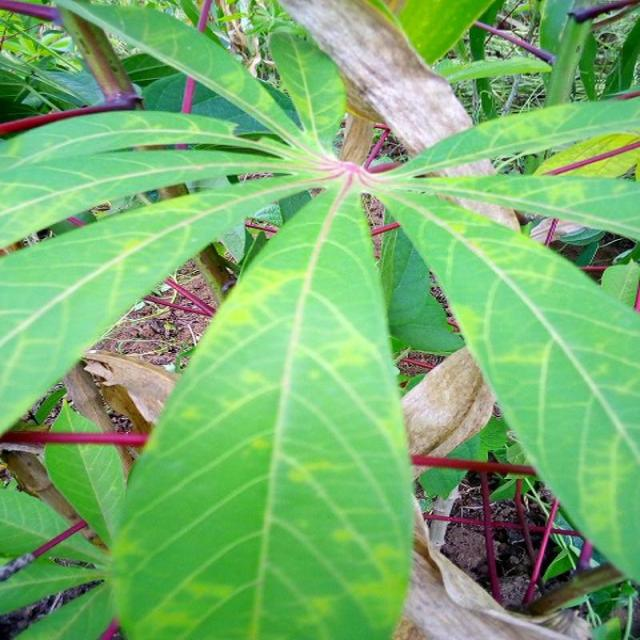cassava leaf: (1, 1, 638, 636), (108, 177, 415, 638), (371, 166, 639, 584)
